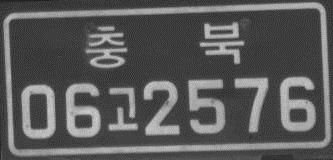0: (18, 83, 56, 141)
2: (141, 78, 179, 139)
5: (184, 76, 227, 138)
6: (276, 74, 318, 132), (63, 81, 103, 138)
7: (230, 74, 272, 136)
고: (104, 85, 138, 133)
충북_D: (84, 18, 246, 71)
